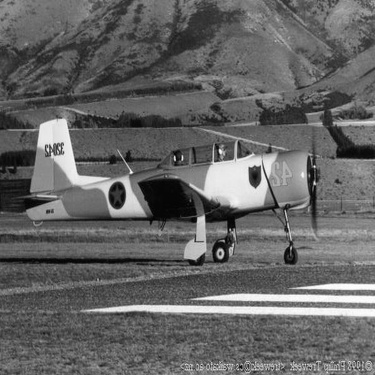airplane: (8, 105, 328, 268)
